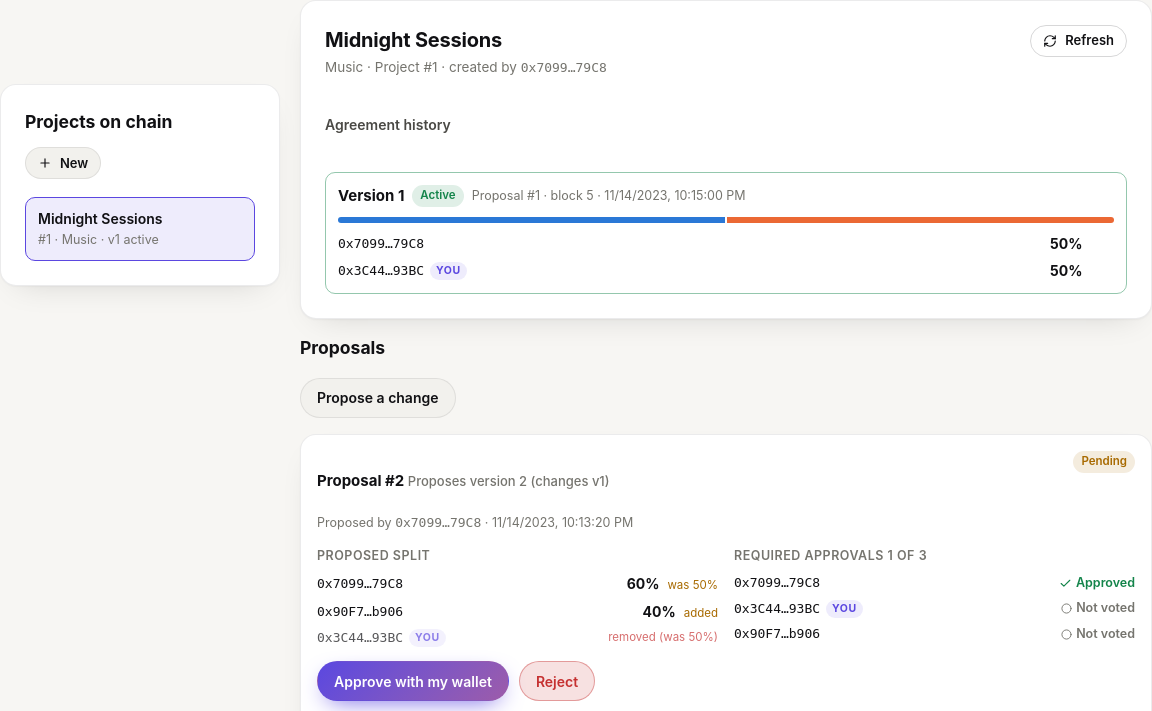
Test: live dashboard: proposals › explains a wallet rejection
What coordinates should you click on to do the following:
click the button "Reject"
I would click on:
 (557, 681)
Its box is x1=519 y1=661 x2=595 y2=701.
(page scrolled)
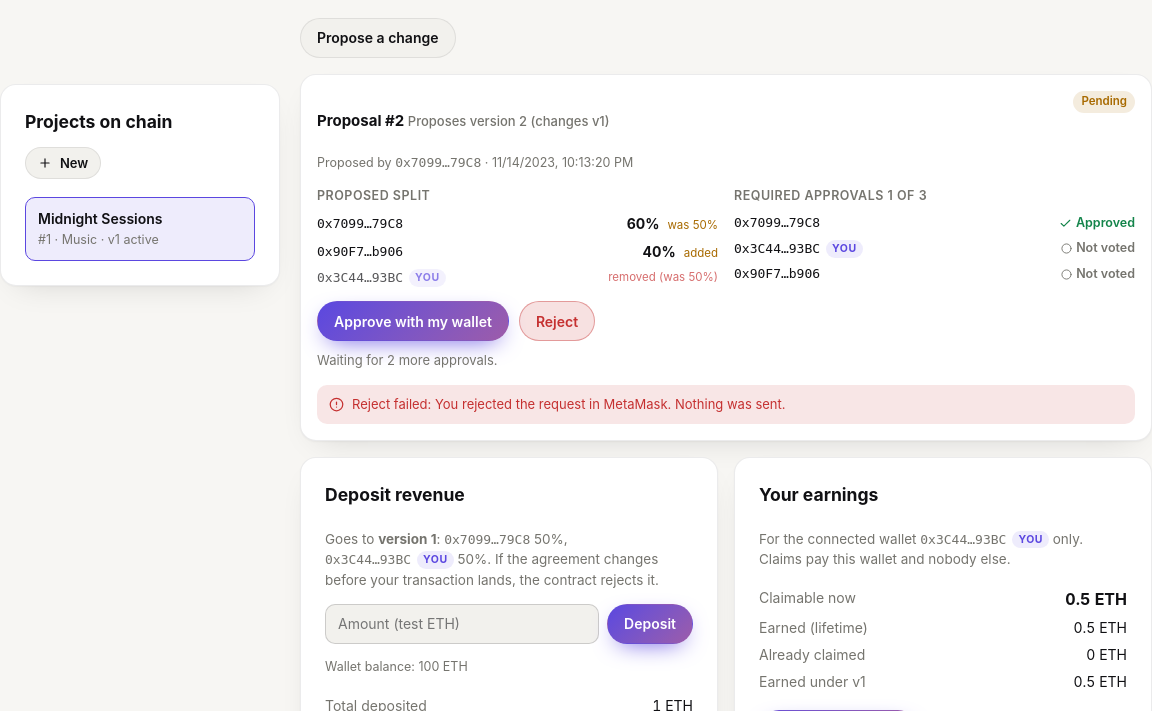
Now the message shows "Reject failed: You rejected the request in MetaMask", box x1=317 y1=385 x2=1135 y2=424
